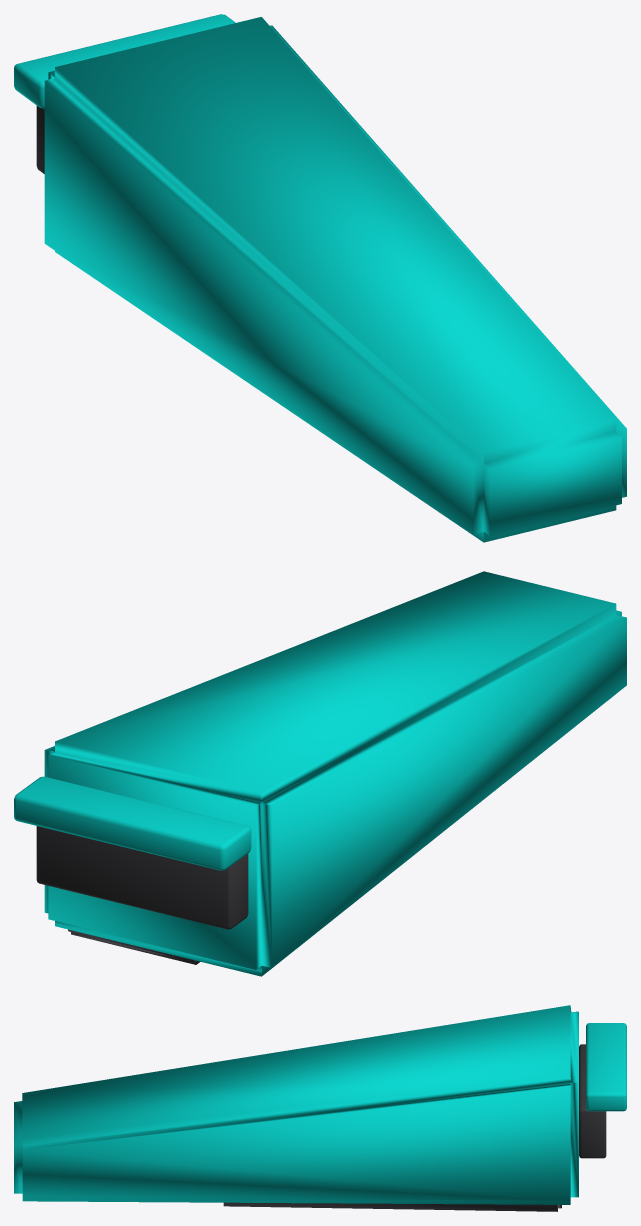
File: f1_sidepod_r_downwash.glb
3 renders of one model, top to bottom at view 1: azimuth 30°, elevation 25°; view 2: azimuth 150°, elevation 25°; view 3: azimuth 270°, elevation 25°, orthographic. The views are drawn at different scales.
Visible parts, largest first — view 1: F1_Sidepod_R_Downwash; view 2: F1_Sidepod_R_Downwash; view 3: F1_Sidepod_R_Downwash.
Boxes of the visible parts, box(x1,y1,x2,y2) form: F1_Sidepod_R_Downwash: box(14, 14, 626, 542); F1_Sidepod_R_Downwash: box(14, 571, 626, 976); F1_Sidepod_R_Downwash: box(14, 1005, 626, 1211).
Size of the model in its own units: 0.5373 by 0.4561 by 1.79.
